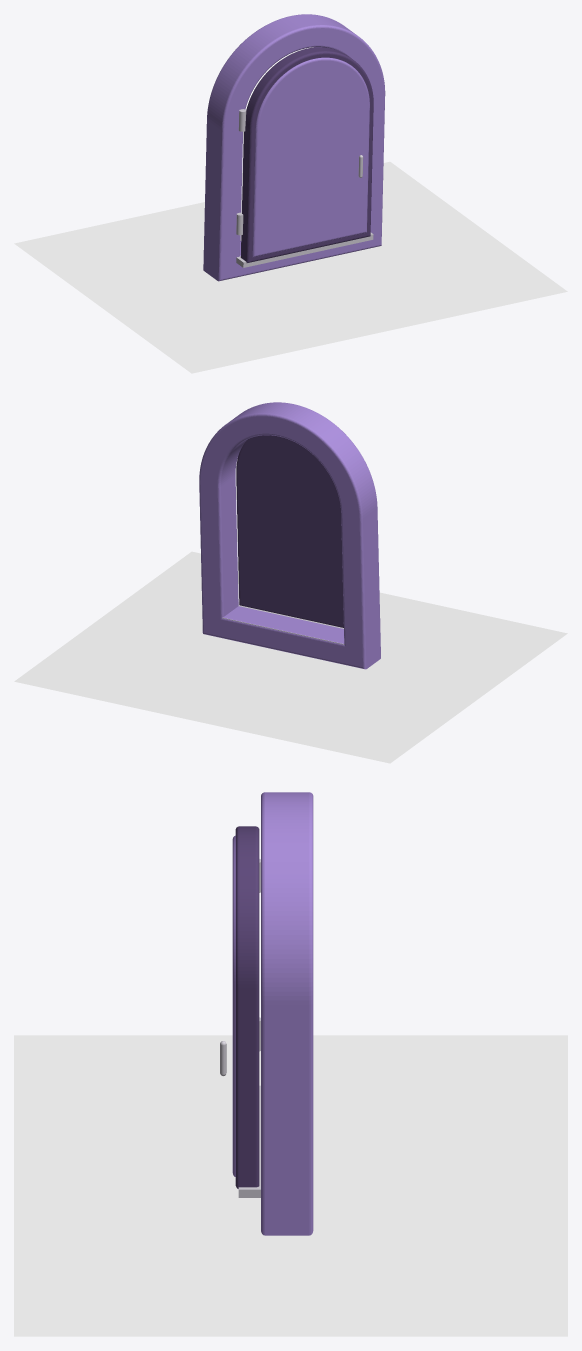
Rendered from portal.glb.
The picture shows the model from 3 angles, top to bottom: view 1: azimuth 30°, elevation 25°; view 2: azimuth 150°, elevation 25°; view 3: azimuth 270°, elevation 25°; orthographic projection. The views are drawn at different scales.
Visible parts, largest first — view 1: Ground, DoorPanel, PortalFrame, DoorLeaf, Threshold; view 2: Ground, PortalFrame, DoorLeaf; view 3: Ground, PortalFrame, DoorLeaf, DoorPanel.
Boxes of the visible parts, x1,y1,x2,y2 form: Ground: [14, 161, 567, 373]; DoorPanel: [252, 57, 369, 257]; PortalFrame: [203, 14, 385, 281]; DoorLeaf: [240, 47, 373, 262]; Threshold: [236, 232, 373, 267]; Ground: [14, 551, 567, 763]; PortalFrame: [199, 402, 380, 669]; DoorLeaf: [236, 435, 343, 627]; Ground: [14, 1035, 567, 1336]; PortalFrame: [261, 792, 313, 1235]; DoorLeaf: [235, 826, 259, 1188]; DoorPanel: [232, 835, 235, 1176].
Size of the model in its own units: 4.4 by 2.8 by 3.6.
Materials: 4 (1 with a texture image).
